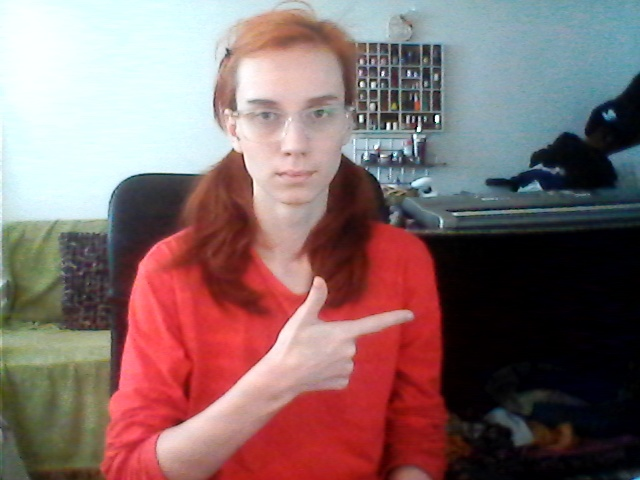dva_dve: (262, 275, 424, 397)
